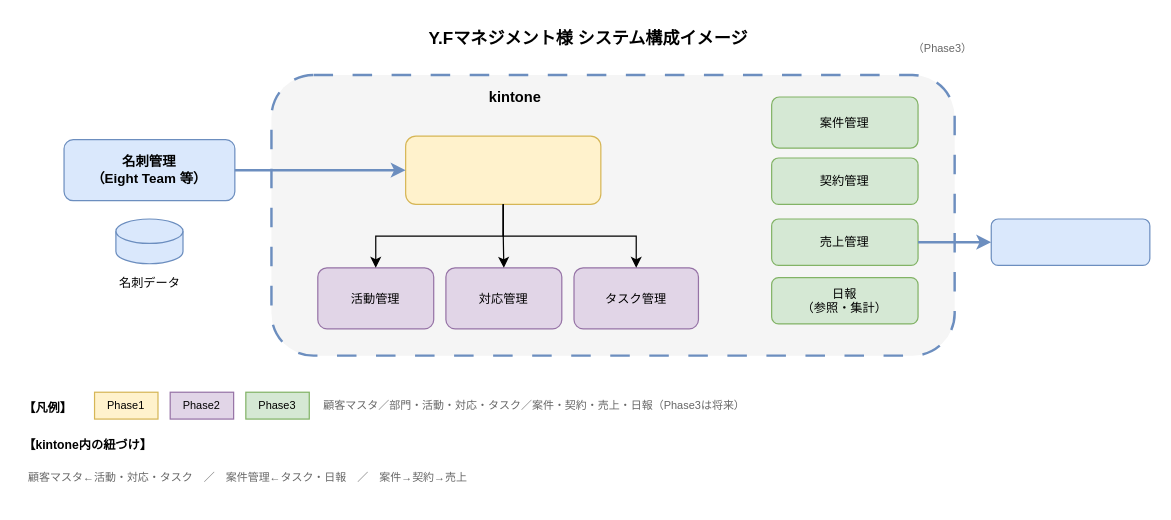
This 1171x520 diagram has some shape labels left out. Here are the shapes that lost their labels. From the top down, the centre of each, then its label:
At point (502, 169): "顧客マスタ".
At point (1070, 241): "会計ソフト （マネーフォワード）".
